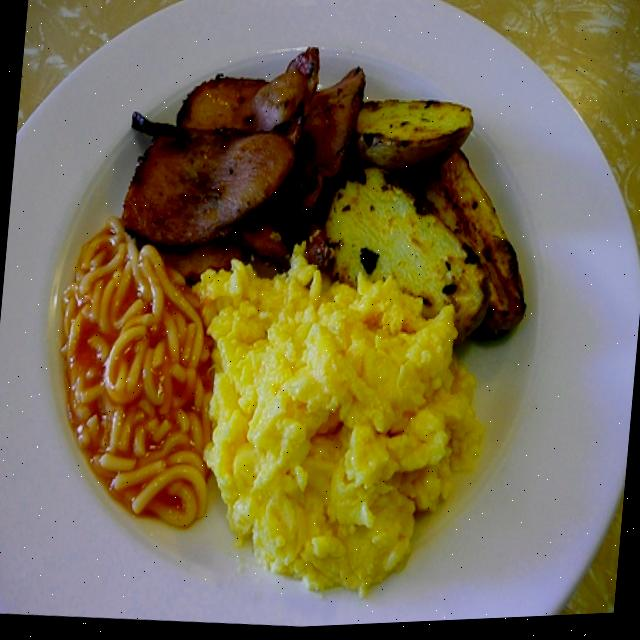鸡蛋料理: (2, 0, 637, 640)
